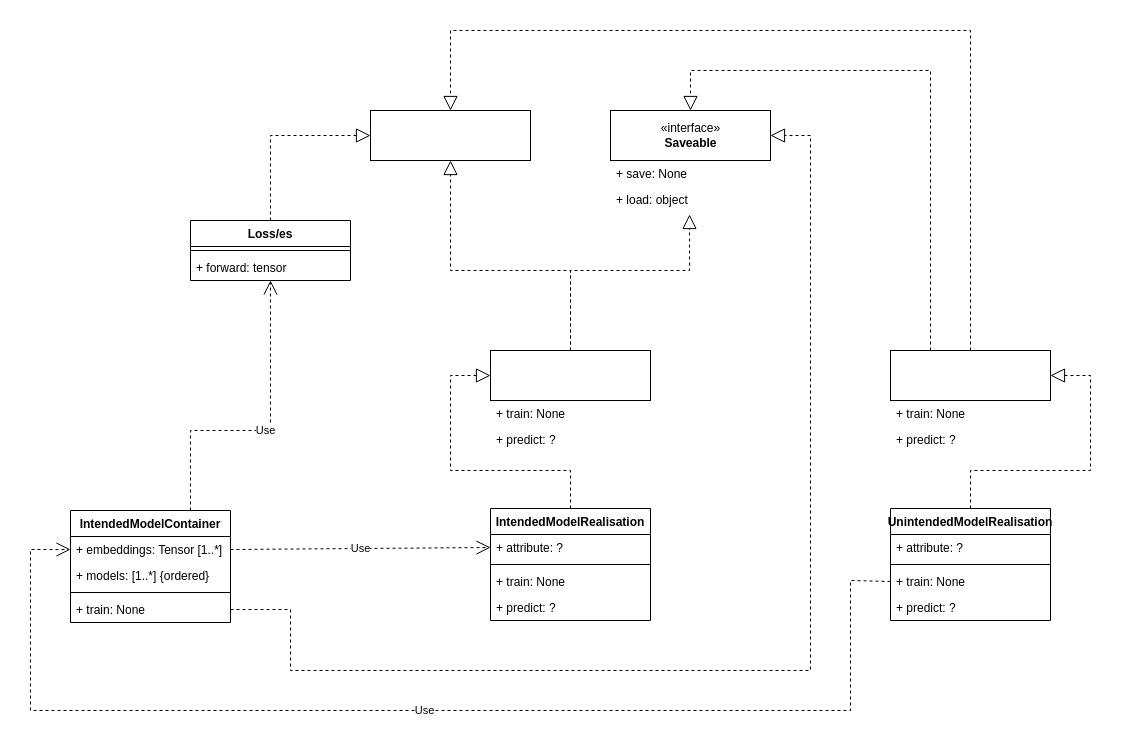
This 1122x742 diagram has some shape labels left out. The shapes that lost their labels are listed below. From the top down, each one's centre as x and y in pixels, then its label:
At point (450, 135): "«interface» torch.nn.Module".
At point (570, 375): "«interface» IntendedModelInterface".
At point (970, 375): "«interface» UnintendedModelInterface".
